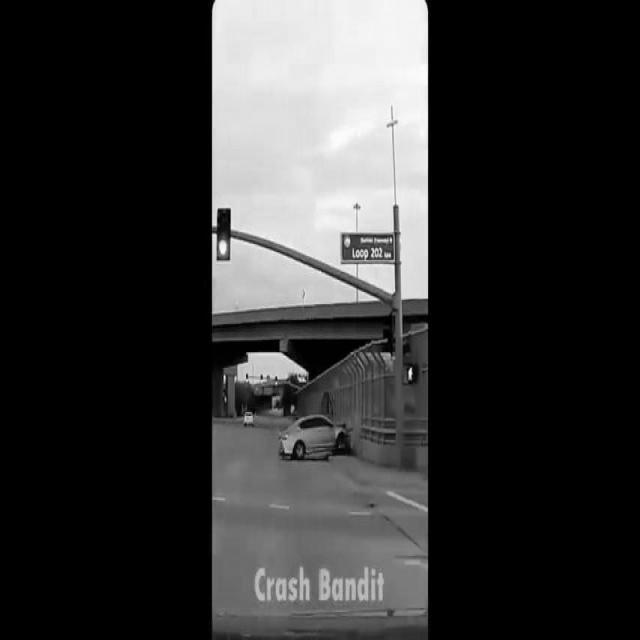accident: (276, 402, 361, 462)
vehicle: (242, 410, 254, 431)
